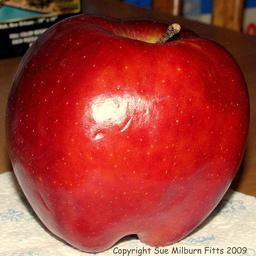apple: (2, 17, 251, 252)
